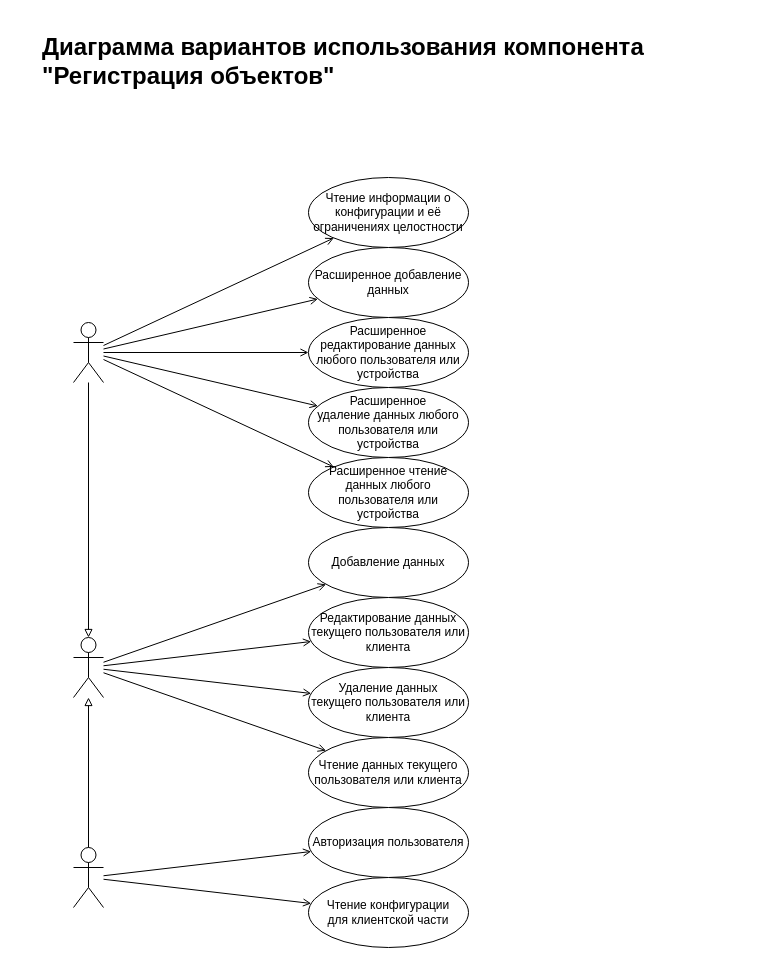
The diagram is 784 pixels wide and 974 high, and some of its shapes have lost their labels. Here are the shapes that lost their labels. From the top down, the centre of each, then its label:
[88,352]: Внешний объект экосистемы 1-го ур.
[88,667]: Абстрактный актёр
[88,877]: Клиентская часть компонента регистрации объектов
